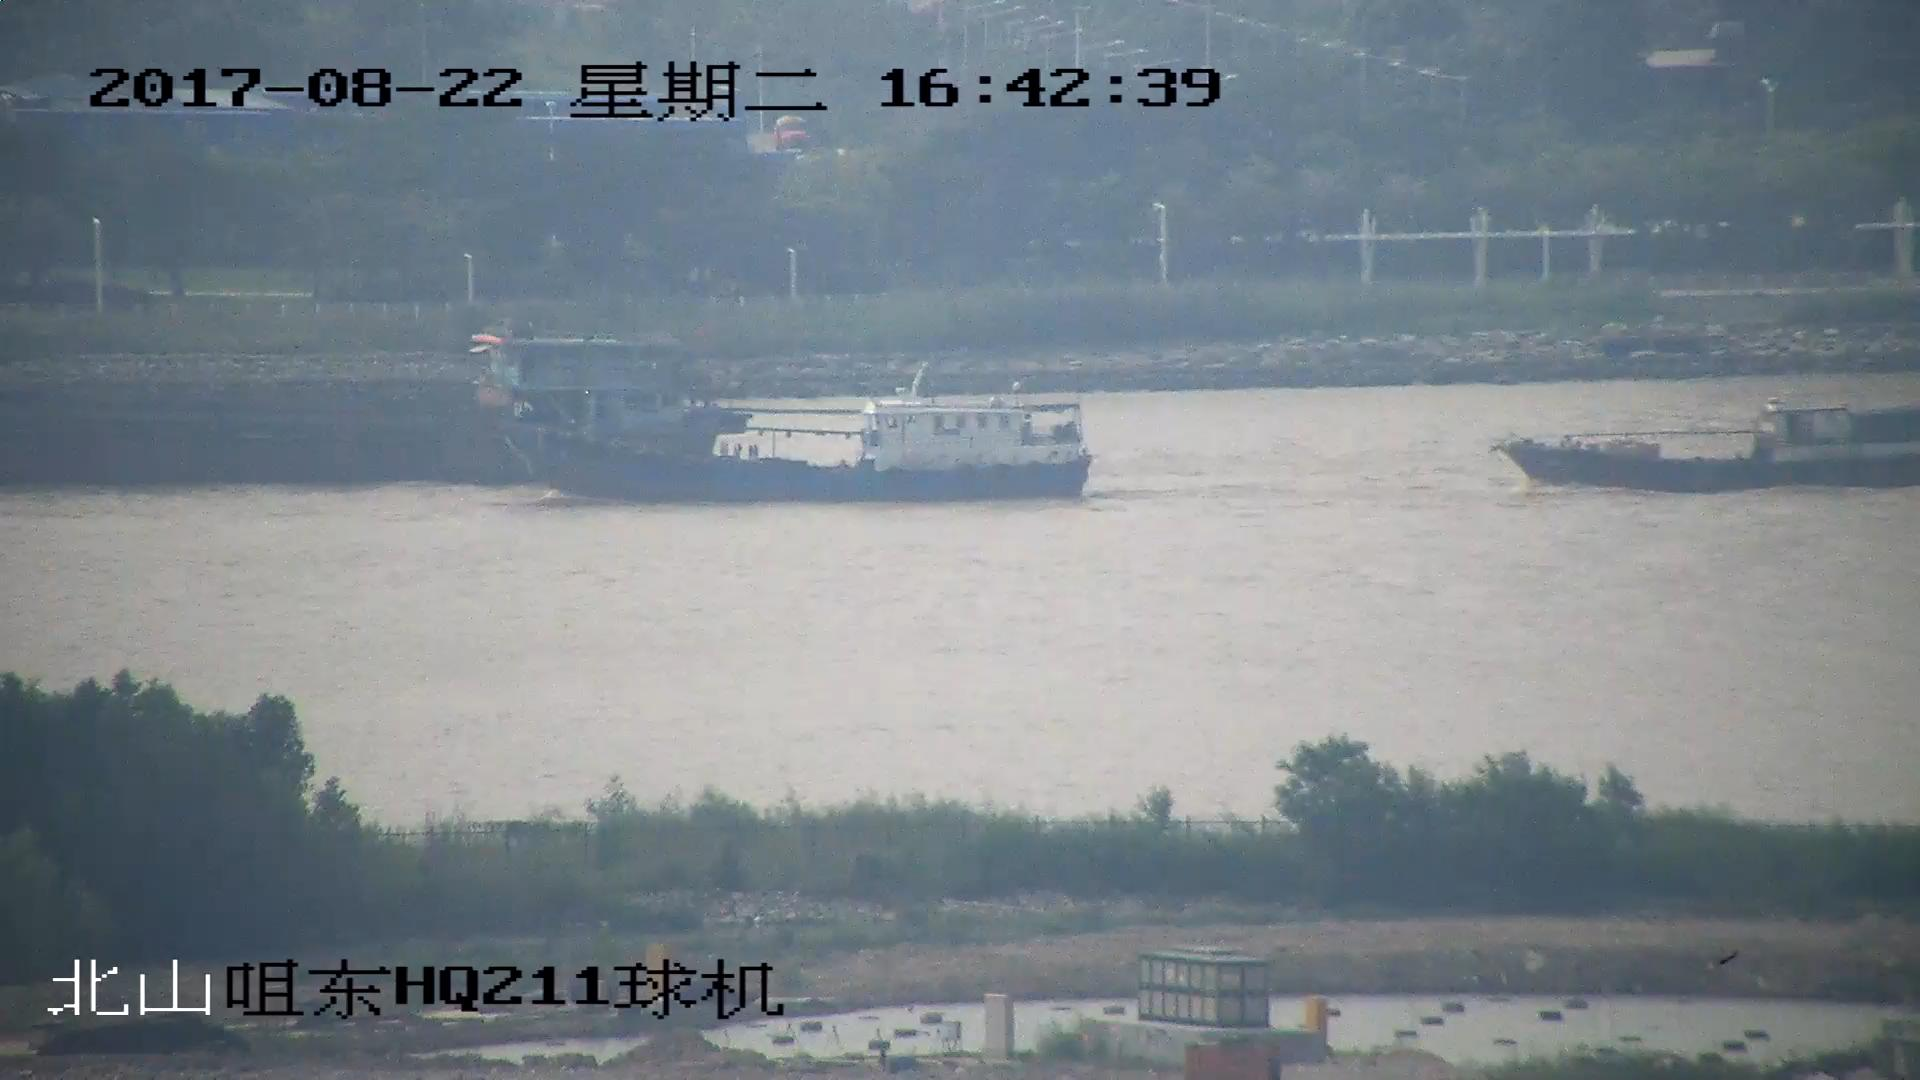bulk cargo carrier: (1, 328, 687, 482)
fishing boat: (514, 378, 1097, 505), (1502, 402, 1920, 490)
